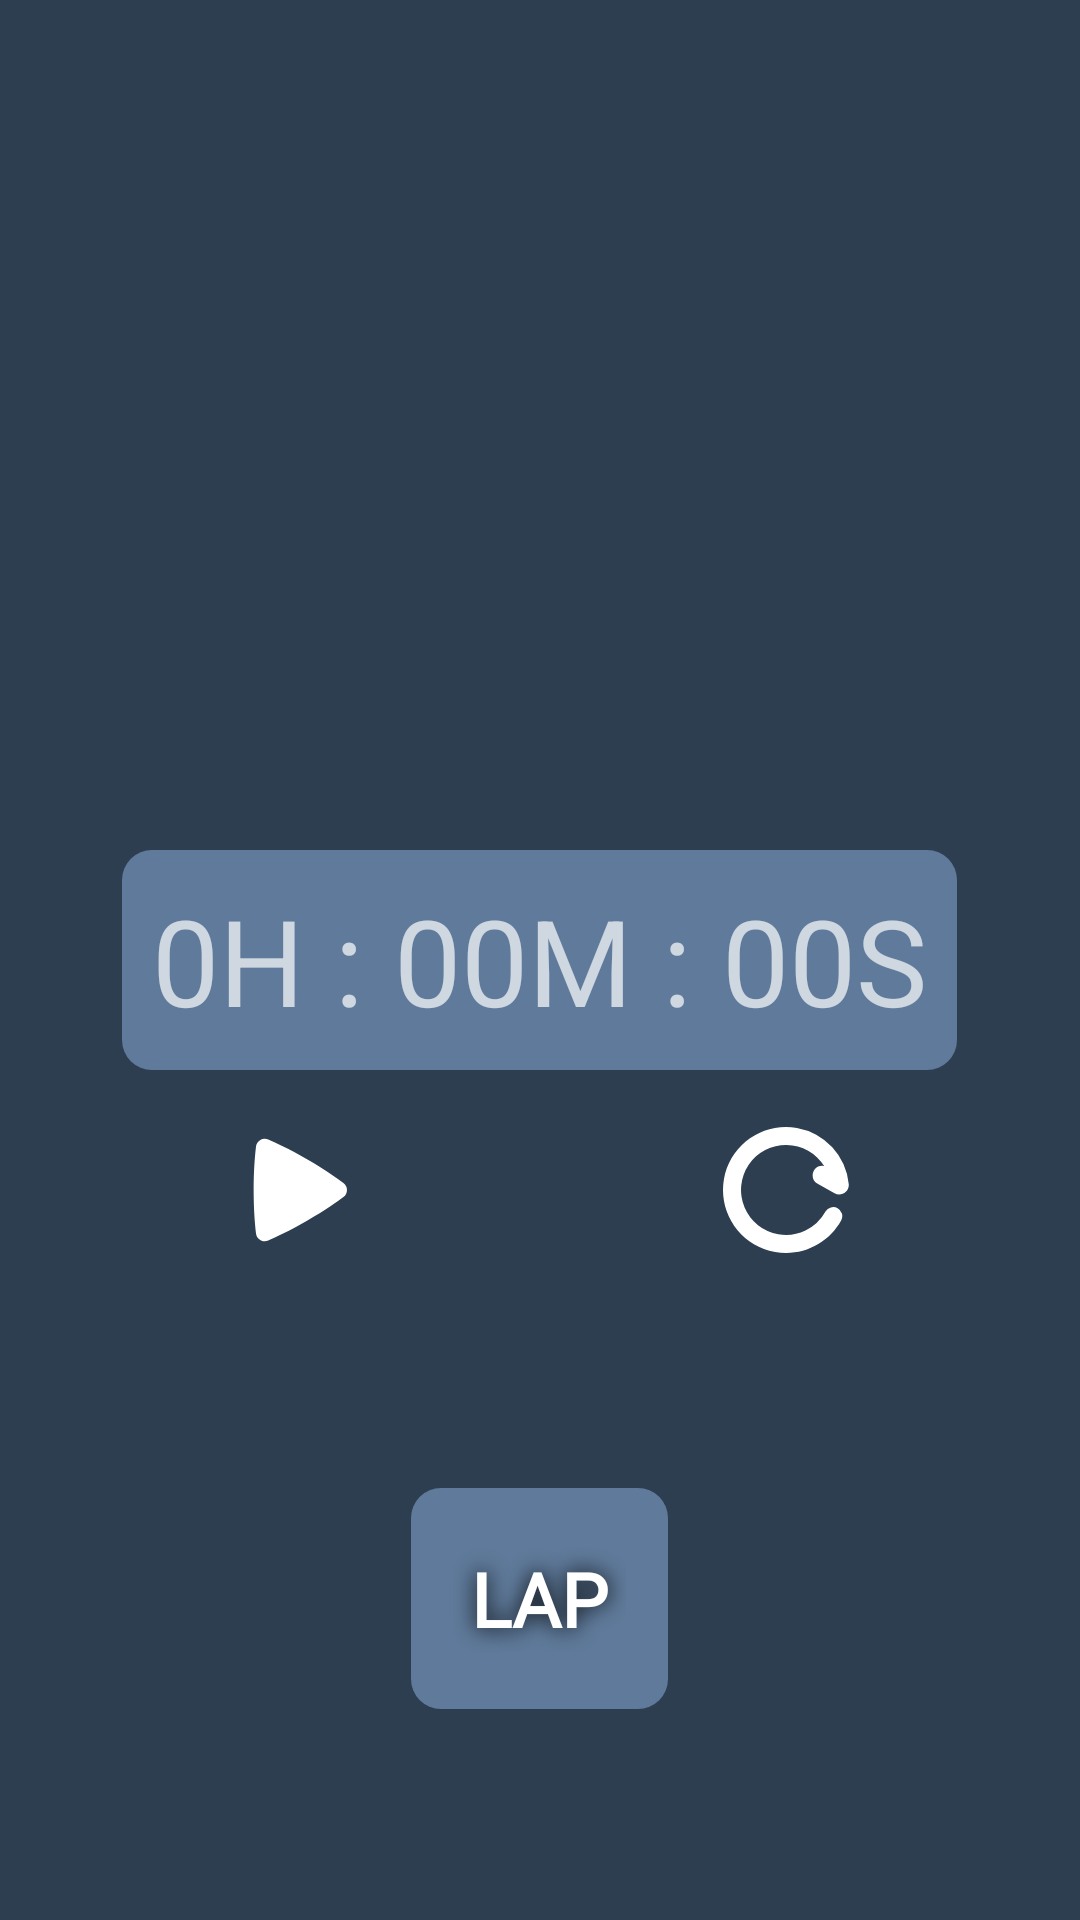

Where to tap for icons on this 1080 x 1920 app screen, as (x,y):
play: (300,1190)
reset: (786,1190)
